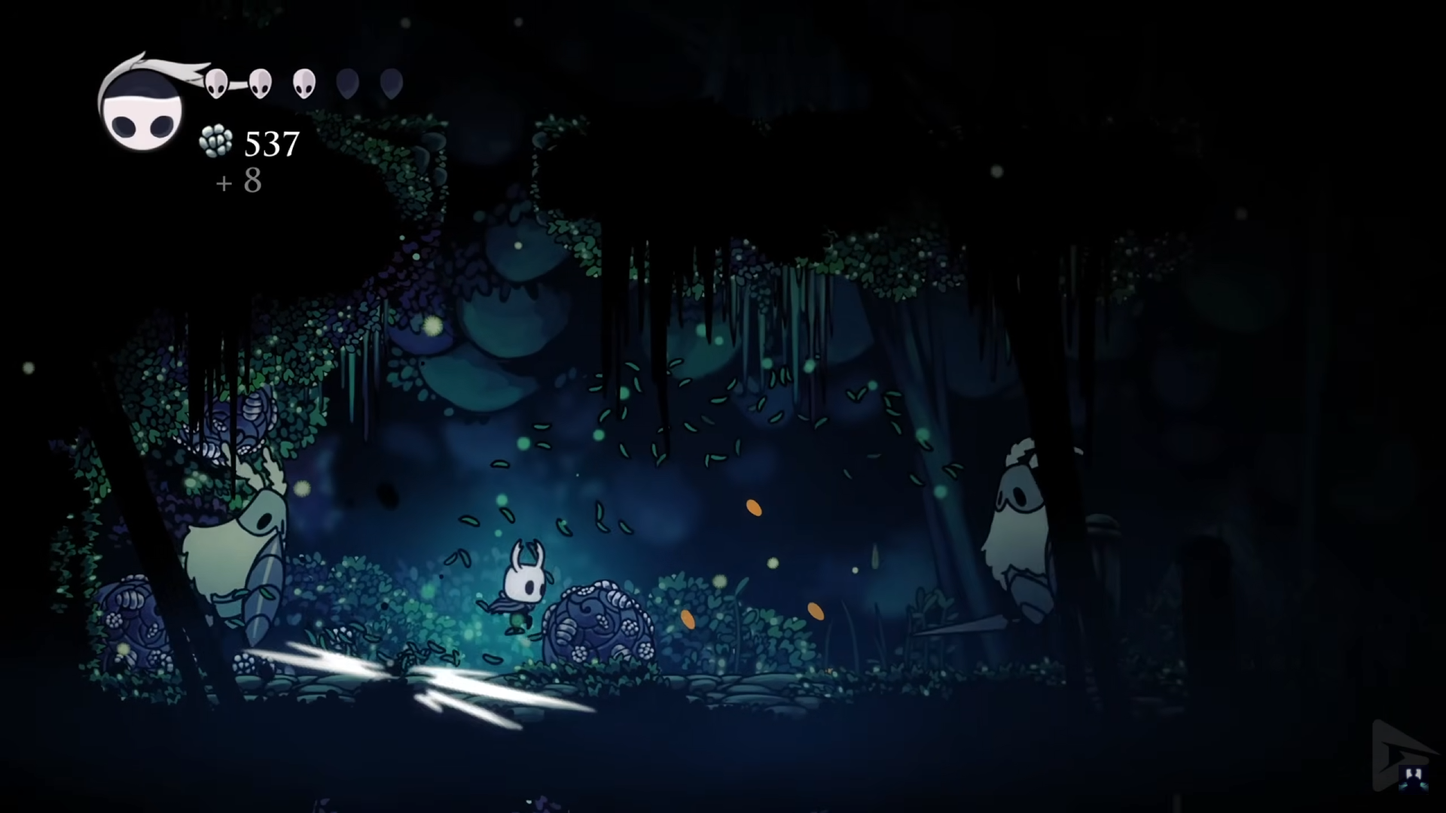HK: (494, 536, 552, 635)
